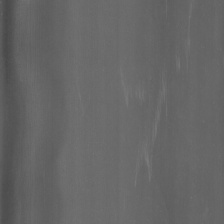silk_spot: (113, 33, 196, 184)
